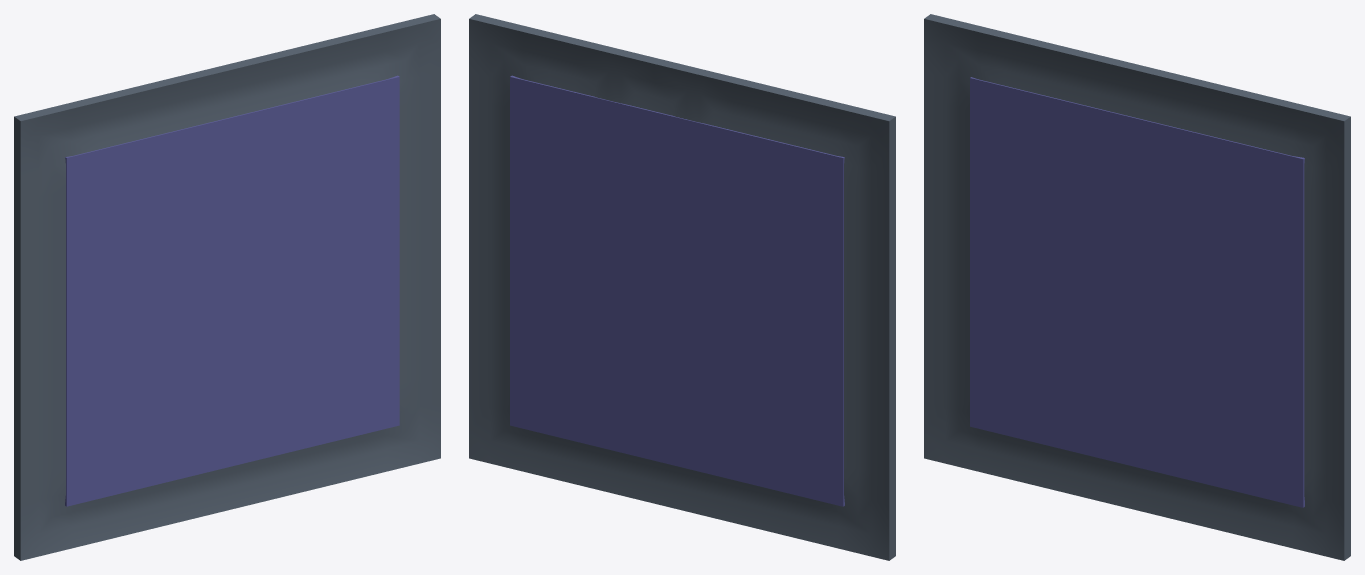
Rendered from window.fbx.
3 views of the same model, side by side, from view 1: azimuth 30°, elevation 25°; view 2: azimuth 150°, elevation 25°; view 3: azimuth 330°, elevation 25° (orthographic).
Visible parts, largest first — view 1: window; view 2: window; view 3: window.
Boxes of the visible parts, x1,y1,x2,y2 form: window: [14, 14, 440, 560]; window: [469, 14, 895, 560]; window: [924, 14, 1350, 560].
Bounding box in the file's own units: 3.59 × 3.59 × 0.0993.
